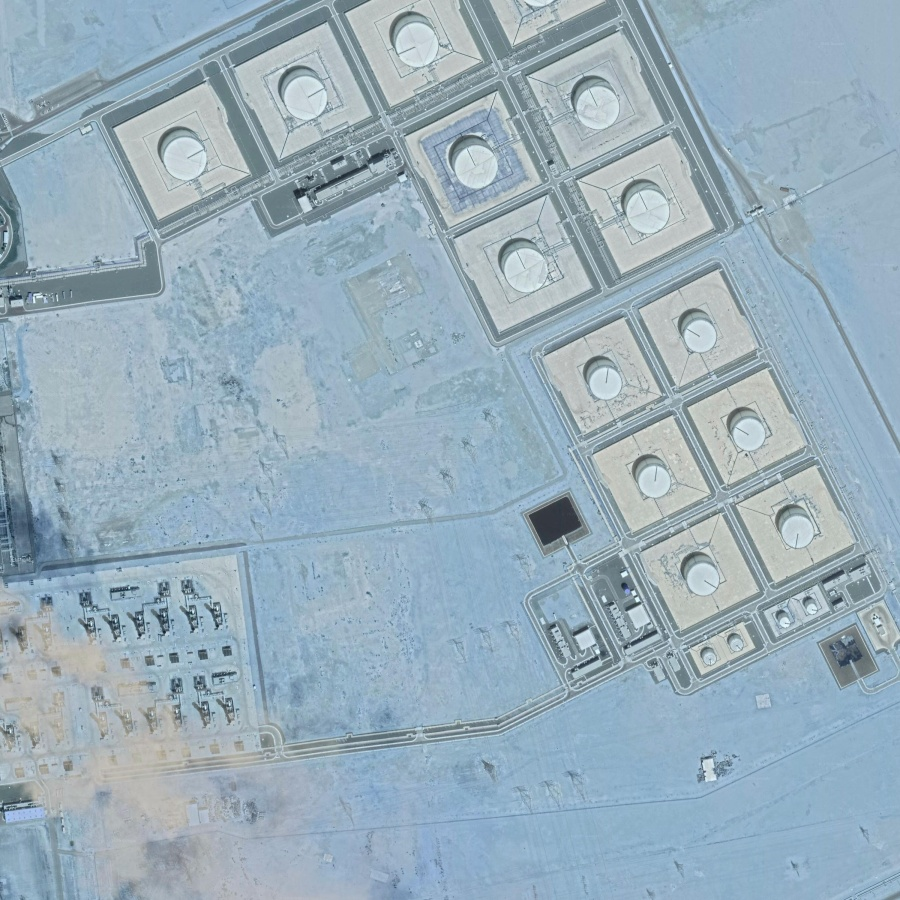PowerPlant: (159, 15, 672, 342), (534, 259, 854, 632)
